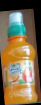orange: (2, 11, 38, 104)
